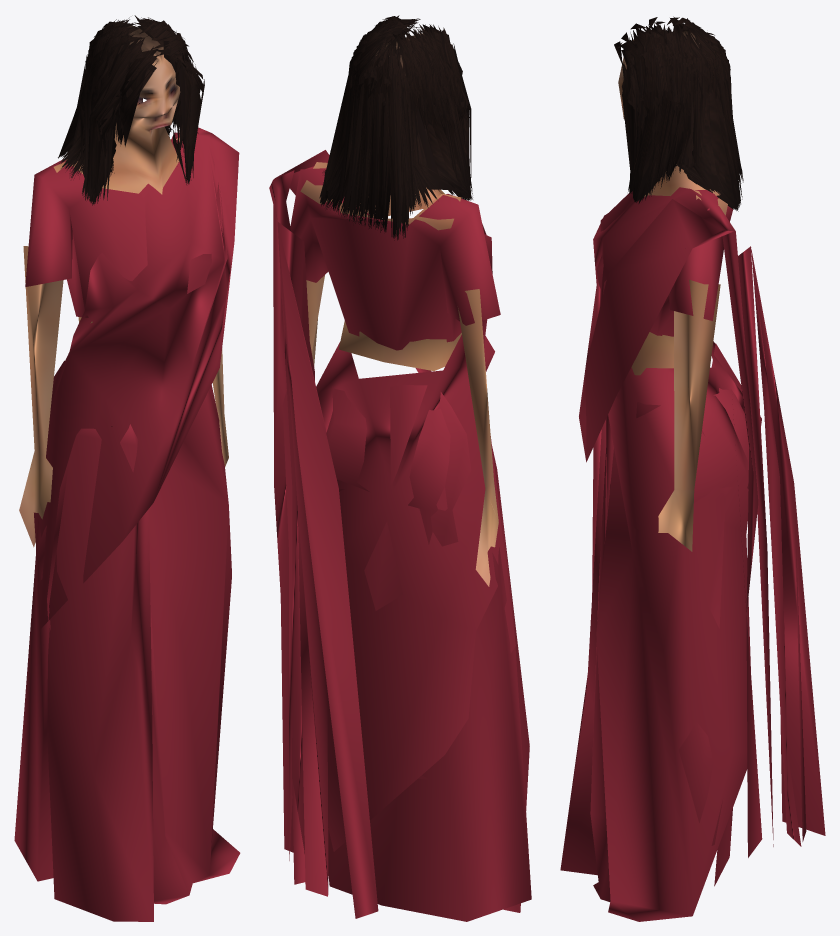
Rendered from woman_saree_maroon_stand.glb.
The picture shows the model from 3 angles, left to right: view 1: azimuth 30°, elevation 25°; view 2: azimuth 150°, elevation 25°; view 3: azimuth 270°, elevation 25°; orthographic projection. The views are drawn at different scales.
Visible parts, largest first — view 1: geometry_0; view 2: geometry_0; view 3: geometry_0.
Part boxes in pixels (<box>): geometry_0: <box>14,15,240,921</box>; geometry_0: <box>269,15,531,921</box>; geometry_0: <box>560,16,825,921</box>.
Size of the model in its own units: 0.4223 by 1.54 by 0.4246.
1 material, 1 textured.
